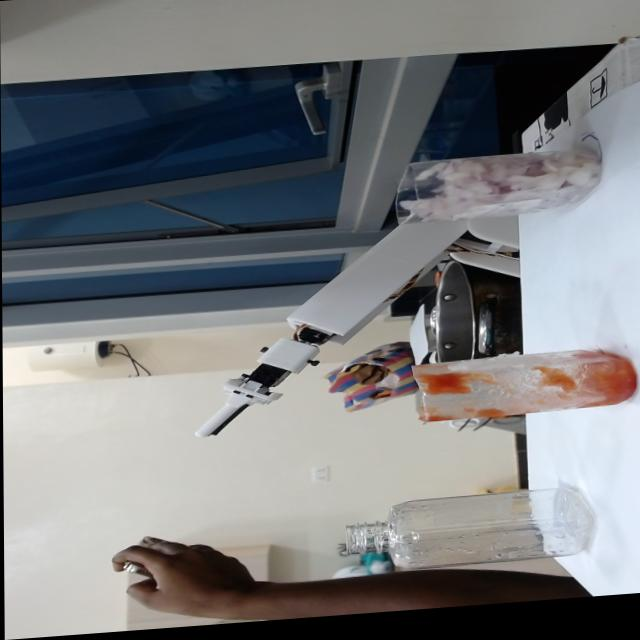blended_tomatoes_pepper: (428, 352, 629, 432)
sliced_onions: (416, 150, 601, 227)
